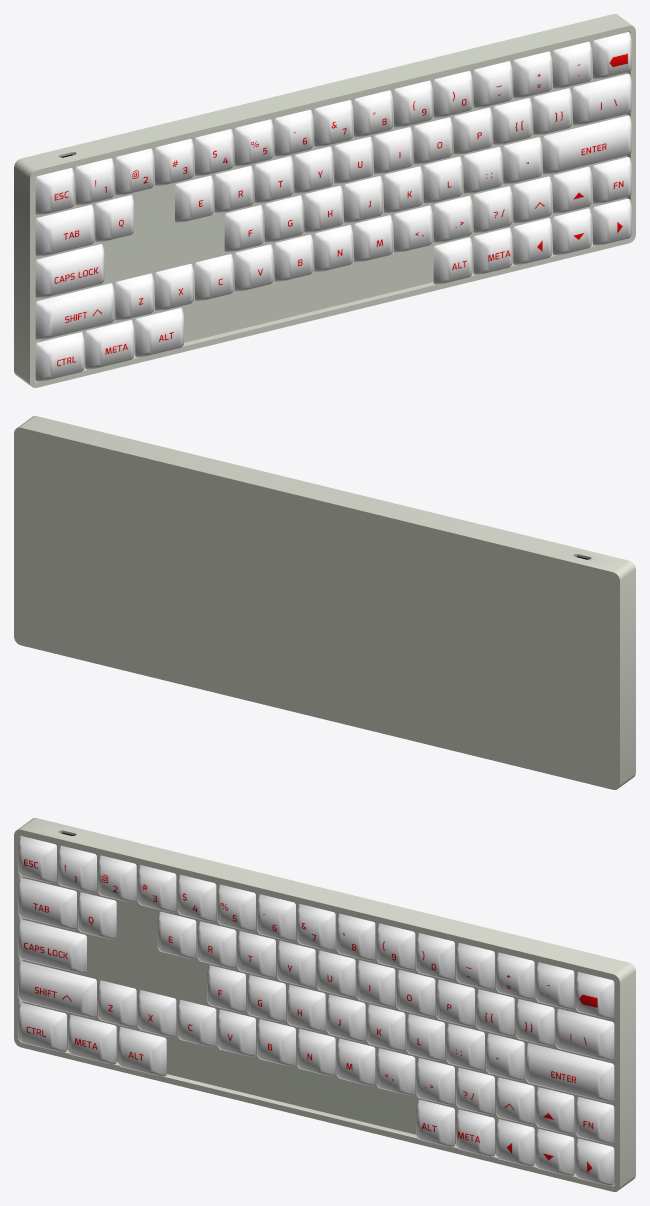
Rendered from keyboard.glb.
The picture shows the model from 3 angles, top to bottom: view 1: azimuth 30°, elevation 25°; view 2: azimuth 150°, elevation 25°; view 3: azimuth 330°, elevation 25°; orthographic projection.
Visible parts, largest first — view 1: keys_low_LOD0_keys_LOD0_0, body_low_LOD0_body_LOD0_0; view 2: body_low_LOD0_body_LOD0_0; view 3: keys_low_LOD0_keys_LOD0_0, body_low_LOD0_body_LOD0_0.
Boxes of the visible parts, <box> form: keys_low_LOD0_keys_LOD0_0: <box>35,32,631,381</box>; body_low_LOD0_body_LOD0_0: <box>14,14,635,387</box>; body_low_LOD0_body_LOD0_0: <box>14,416,635,789</box>; keys_low_LOD0_keys_LOD0_0: <box>18,836,614,1185</box>; body_low_LOD0_body_LOD0_0: <box>14,818,635,1191</box>.
Bounding box in the file's own units: 3.73 × 1.28 × 0.2469.
3 materials, 2 textured.
